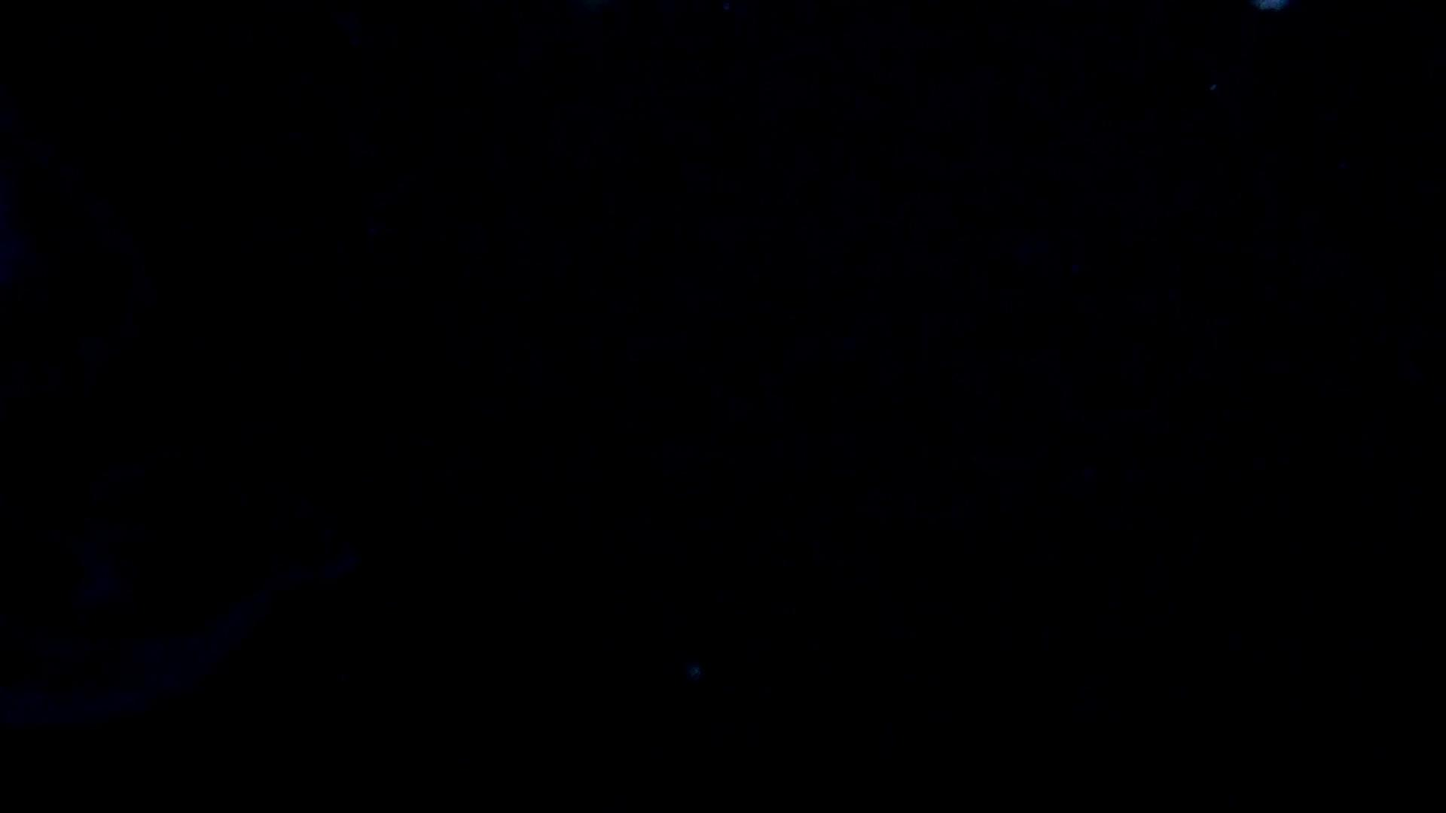organism: (0, 126, 370, 733)
